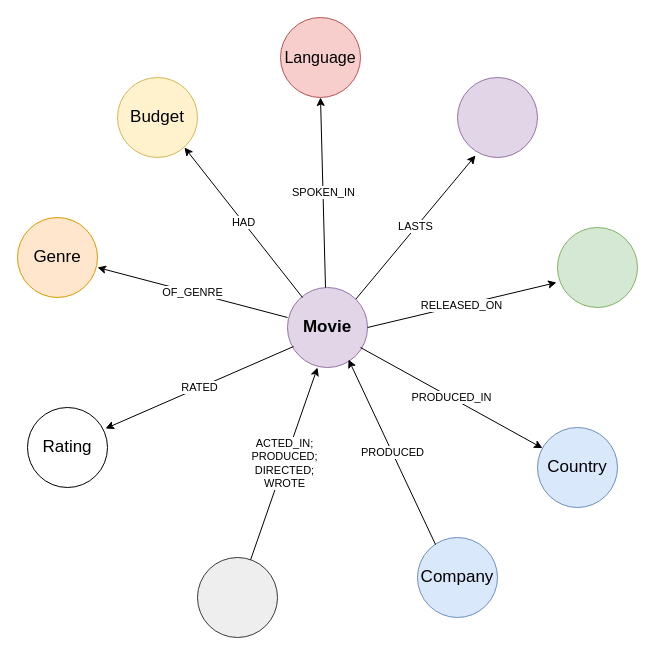
Image size: 655x655. Some labels were removed from this diagram. Each missing label, with the box of its shape:
Date: (556, 226, 638, 308)
Person: (196, 556, 278, 638)
Runtime: (456, 76, 538, 158)
